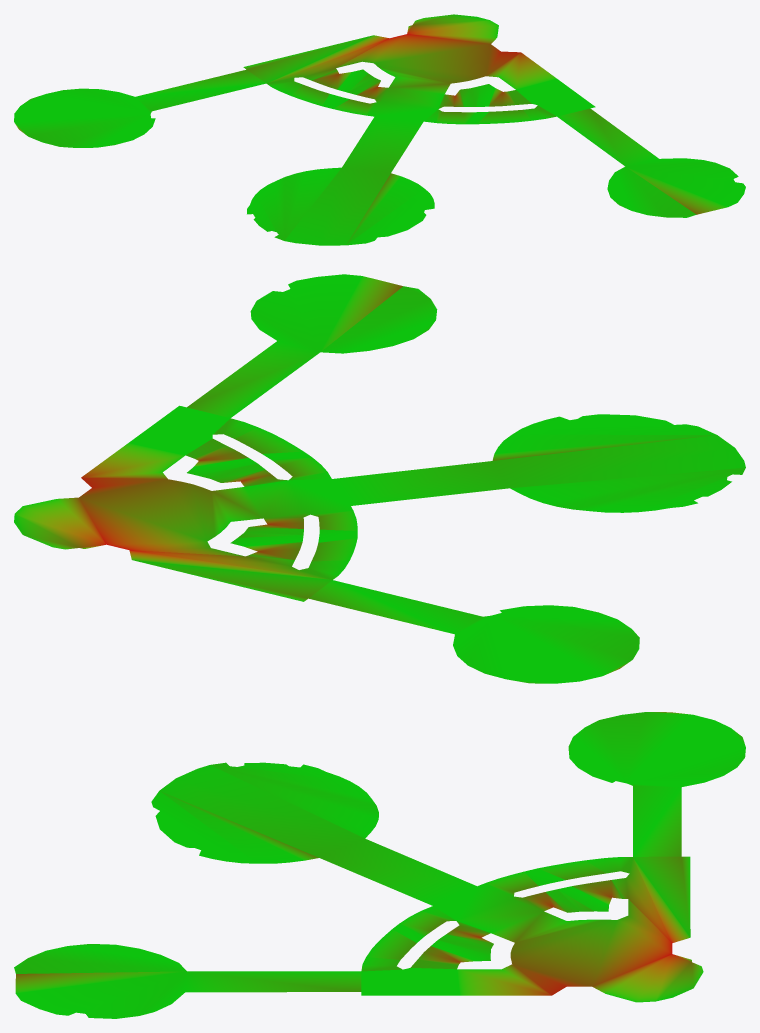
File: pref_sm_citypve_navmesh_lv3.fbx
3 views of the same model, one above another, from view 1: azimuth 30°, elevation 25°; view 2: azimuth 150°, elevation 25°; view 3: azimuth 270°, elevation 25° (orthographic). The views are drawn at different scales.
Visible parts, largest first — view 1: pref_sm_citypve_navmesh_lv3; view 2: pref_sm_citypve_navmesh_lv3; view 3: pref_sm_citypve_navmesh_lv3.
Part boxes in pixels (box(x1,y1,x2,y2)): pref_sm_citypve_navmesh_lv3: box(14, 14, 745, 245); pref_sm_citypve_navmesh_lv3: box(14, 274, 745, 683); pref_sm_citypve_navmesh_lv3: box(14, 712, 745, 1018).
Size of the model in its own units: 94.56 by 0.055 by 95.29.
